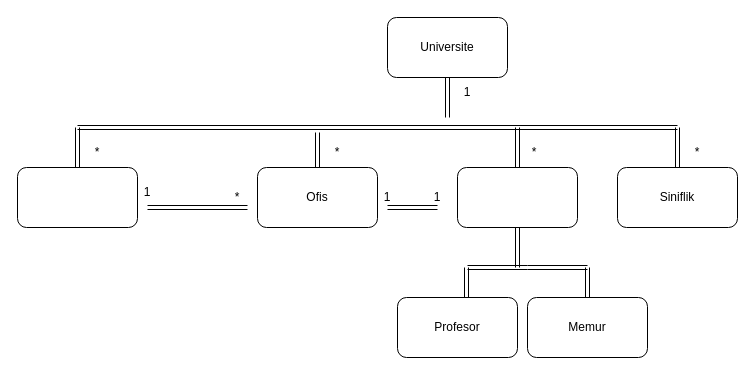
Image size: 755x375. Some labels were removed from this diagram. The centre of each missing label's shape, as x and y in pixels:
Calisan: (x=517, y=197)
Departman: (x=77, y=197)
